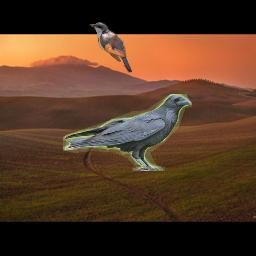Crow: (63, 94, 192, 171)
Cuckoo: (88, 21, 132, 74)
